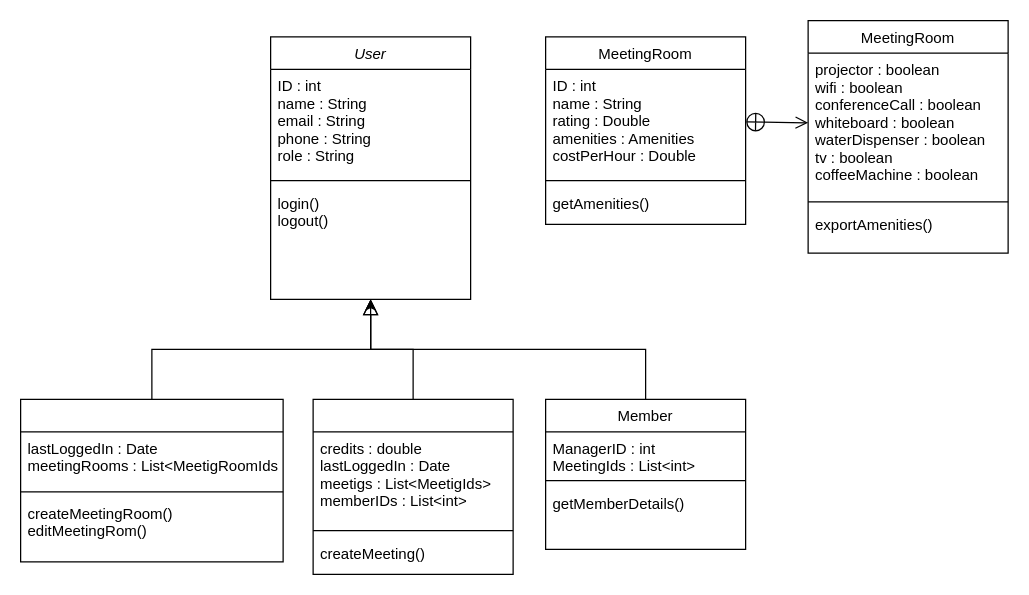
Image size: 1029x595. Some labels were removed from this diagram. The shapes that lost their labels are listed below. From the top down, each one's box as (x1, y1, x2, y2) in pixels, then its label:
(19, 398, 283, 562): Admin
(312, 398, 513, 574): Manager
